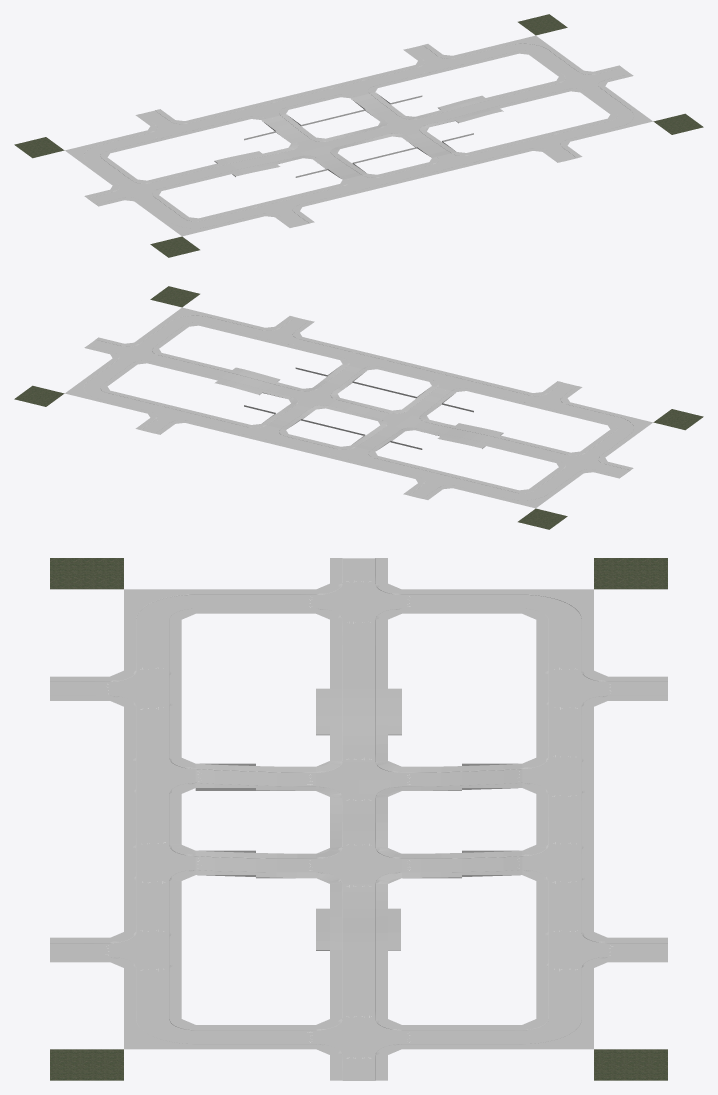
File: Double-Block-03-Slope-01.fbx
3 views of the same model, one above another, from view 1: azimuth 30°, elevation 25°; view 2: azimuth 150°, elevation 25°; view 3: azimuth 270°, elevation 25° (orthographic). The views are drawn at different scales.
Visible parts, largest first — view 1: Double-Block-03-B, Double-Block-03, Double-Block-03-Sidewalk-B, Double-Block-03-Sidewalk; view 2: Double-Block-03-B, Double-Block-03, Double-Block-03-Sidewalk-B, Double-Block-03-Sidewalk; view 3: Double-Block-03, Double-Block-03-B, Double-Block-03-Sidewalk, Double-Block-03-Sidewalk-B.
Part boxes in pixels (x1,y1,x2,y2): Double-Block-03-B: (303, 14, 703, 176); Double-Block-03: (14, 95, 414, 257); Double-Block-03-Sidewalk-B: (301, 35, 652, 178); Double-Block-03-Sidewalk: (65, 93, 417, 236); Double-Block-03-B: (14, 286, 414, 448); Double-Block-03: (303, 367, 703, 529); Double-Block-03-Sidewalk-B: (65, 307, 416, 450); Double-Block-03-Sidewalk: (300, 365, 652, 508); Double-Block-03: (50, 558, 667, 822); Double-Block-03-B: (50, 819, 667, 1080); Double-Block-03-Sidewalk: (50, 558, 667, 822); Double-Block-03-Sidewalk-B: (50, 819, 667, 1080).
Size of what is drawn, in the model's own units: 600 by 2.28 by 300.
